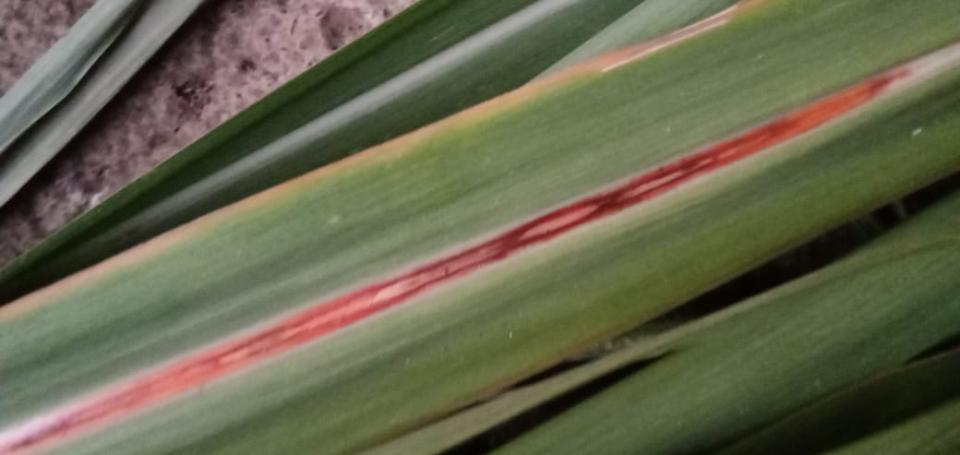RedRot: (0, 69, 912, 454)
